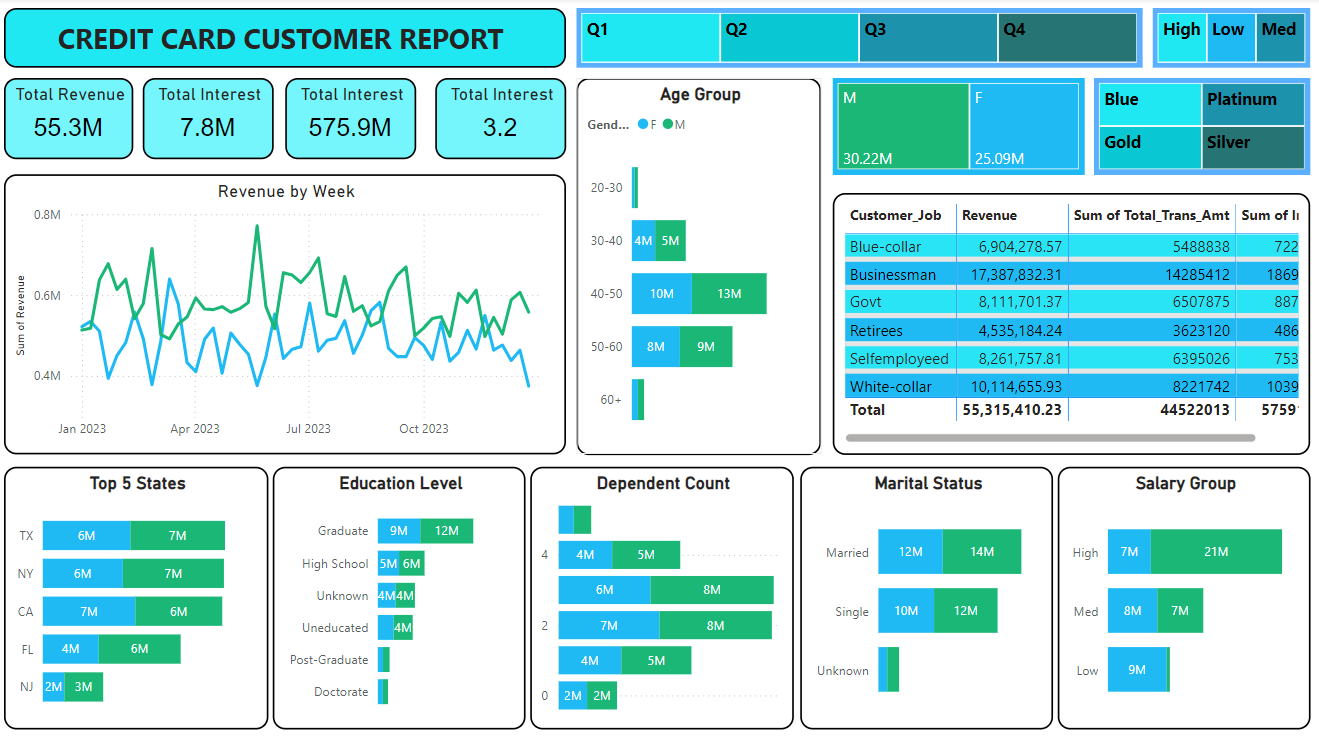

What the dashboard file says about the page in this screenshot:
{"tool":"powerbi","page":{"name":"cc_Customer","canvas":[1280,720],"ordinal":1},"visuals":[{"type":"textbox","box":[9.6,9.6,542,57.6],"z":0},{"type":"card","title":"Total Revenue","fields":{"Values":["Sum(credit_card.Revenue)"]},"box":[9.6,76.8,124.9,78.2],"z":1000},{"type":"card","title":"Total Interest","fields":{"Values":["Sum(credit_card.Interest_Earned)"]},"box":[144.1,76.8,126.2,78.2],"z":2000},{"type":"card","title":"Total Income","fields":{"Values":["Sum(customer.Income)"]},"box":[281.3,76.8,126.2,78.2],"z":3000},{"type":"card","title":"Total Interest","fields":{"Values":["Avg(customer.Cust_Satisfaction_Score)"]},"box":[425.4,76.8,126.2,78.2],"z":4000},{"type":"lineChart","title":"Revenue by Week","fields":{"Y":["Sum(credit_card.Revenue)"],"Series":["customer.Gender"],"Category":["credit_card.Week_Start_Date.Variation.Date Hierarchy.Year","credit_card.Week_Start_Date.Variation.Date Hierarchy.Month","credit_card.Week_Start_Date.Variation.Date Hierarchy.Day"]},"box":[9.6,170.2,542,270.3],"z":5000},{"type":"treemap","fields":{"Group":["customer.Gender"],"Values":["Sum(credit_card.Revenue)"]},"box":[809.6,76.8,242.9,93.3],"z":6000},{"type":"barChart","title":"Top 5 States","fields":{"Category":["customer.state_cd"],"Y":["Sum(credit_card.Revenue)"],"Series":["customer.Gender"]},"box":[9.6,452.8,255,253.9],"z":7000},{"type":"barChart","title":"Salary Group","fields":{"Y":["Sum(credit_card.Revenue)"],"Category":["customer.IncomeGroup"],"Series":["customer.Gender"]},"box":[1026.4,452.8,244.3,253.9],"z":8000},{"type":"barChart","title":"Marital Status","fields":{"Y":["Sum(credit_card.Revenue)"],"Category":["customer.Marital_Status"],"Series":["customer.Gender"]},"box":[778,452.8,244.3,253.9],"z":9000},{"type":"barChart","title":"Education Level","fields":{"Y":["Sum(credit_card.Revenue)"],"Category":["customer.Education_Level"],"Series":["customer.Gender"]},"box":[269,452.8,244.3,253.9],"z":10000},{"type":"barChart","title":"Age Group","fields":{"Y":["Sum(credit_card.Revenue)"],"Category":["customer.AgeGroup"],"Series":["customer.Gender"]},"box":[562.6,76.8,236,363.6],"z":11000},{"type":"barChart","title":"Dependent Count","fields":{"Y":["Sum(credit_card.Revenue)"],"Series":["customer.Gender"],"Category":["customer.Dependent_Count"]},"box":[517.3,452.8,254,253.9],"z":12000},{"type":"treemap","fields":{"Group":["credit_card.Qtr"],"Values":["Count(credit_card.Qtr)"]},"box":[562.6,9.6,546.1,57.6],"z":13000},{"type":"tableEx","fields":{"Values":["customer.Customer_Job","Sum(credit_card.Revenue)","Sum(credit_card.Total_Trans_Amt)","Sum(customer.Income)"]},"box":[809.6,188,461.1,252.5],"z":14000},{"type":"treemap","fields":{"Group":["customer.IncomeGroup"],"Values":["Count(credit_card.Qtr)"]},"box":[1118.4,9.6,152.3,57.6],"z":15000},{"type":"treemap","fields":{"Values":["Count(customer.Gender)"],"Group":["credit_card.Card_Category"]},"box":[1062.1,76.8,208.6,93.3],"z":16000}]}

Visuals, with their boxes in screenshot pixels (x1, y1, x2, y2), scaled from the page's 1280x720 canvas onto the 1319x736 screenshot:
textbox: {"left": 10, "top": 10, "right": 568, "bottom": 69}
"Total Revenue" card: {"left": 10, "top": 79, "right": 139, "bottom": 158}
"Total Interest" card: {"left": 148, "top": 79, "right": 279, "bottom": 158}
"Total Income" card: {"left": 290, "top": 79, "right": 420, "bottom": 158}
"Total Interest" card: {"left": 438, "top": 79, "right": 568, "bottom": 158}
"Revenue by Week" lineChart: {"left": 10, "top": 174, "right": 568, "bottom": 450}
treemap - customer.Gender x Sum(credit_card.Revenue): {"left": 834, "top": 79, "right": 1085, "bottom": 174}
"Top 5 States" barChart: {"left": 10, "top": 463, "right": 273, "bottom": 722}
"Salary Group" barChart: {"left": 1058, "top": 463, "right": 1309, "bottom": 722}
"Marital Status" barChart: {"left": 802, "top": 463, "right": 1053, "bottom": 722}
"Education Level" barChart: {"left": 277, "top": 463, "right": 529, "bottom": 722}
"Age Group" barChart: {"left": 580, "top": 79, "right": 823, "bottom": 450}
"Dependent Count" barChart: {"left": 533, "top": 463, "right": 795, "bottom": 722}
treemap - credit_card.Qtr x Count(credit_card.Qtr): {"left": 580, "top": 10, "right": 1142, "bottom": 69}
tableEx - customer.Customer_Job x Sum(credit_card.Revenue): {"left": 834, "top": 192, "right": 1309, "bottom": 450}
treemap - customer.IncomeGroup x Count(credit_card.Qtr): {"left": 1152, "top": 10, "right": 1309, "bottom": 69}
treemap - Count(customer.Gender) x credit_card.Card_Category: {"left": 1094, "top": 79, "right": 1309, "bottom": 174}
